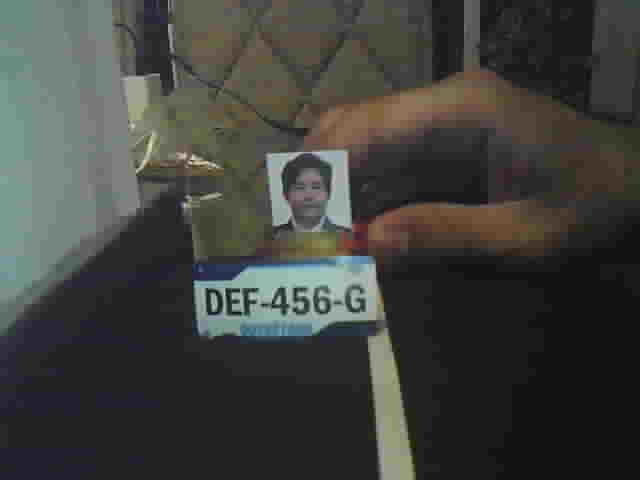PLACA: (192, 255, 381, 341)
ROSTRO: (267, 148, 355, 232)
